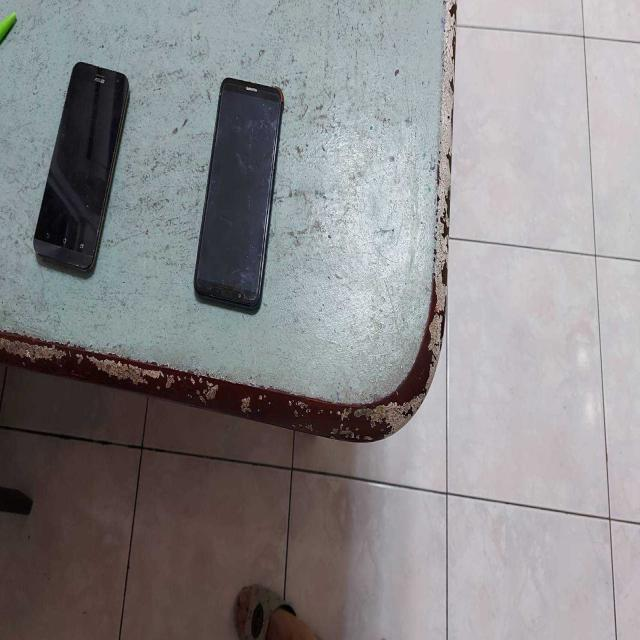phone: (21, 55, 141, 299), (188, 64, 295, 329)
